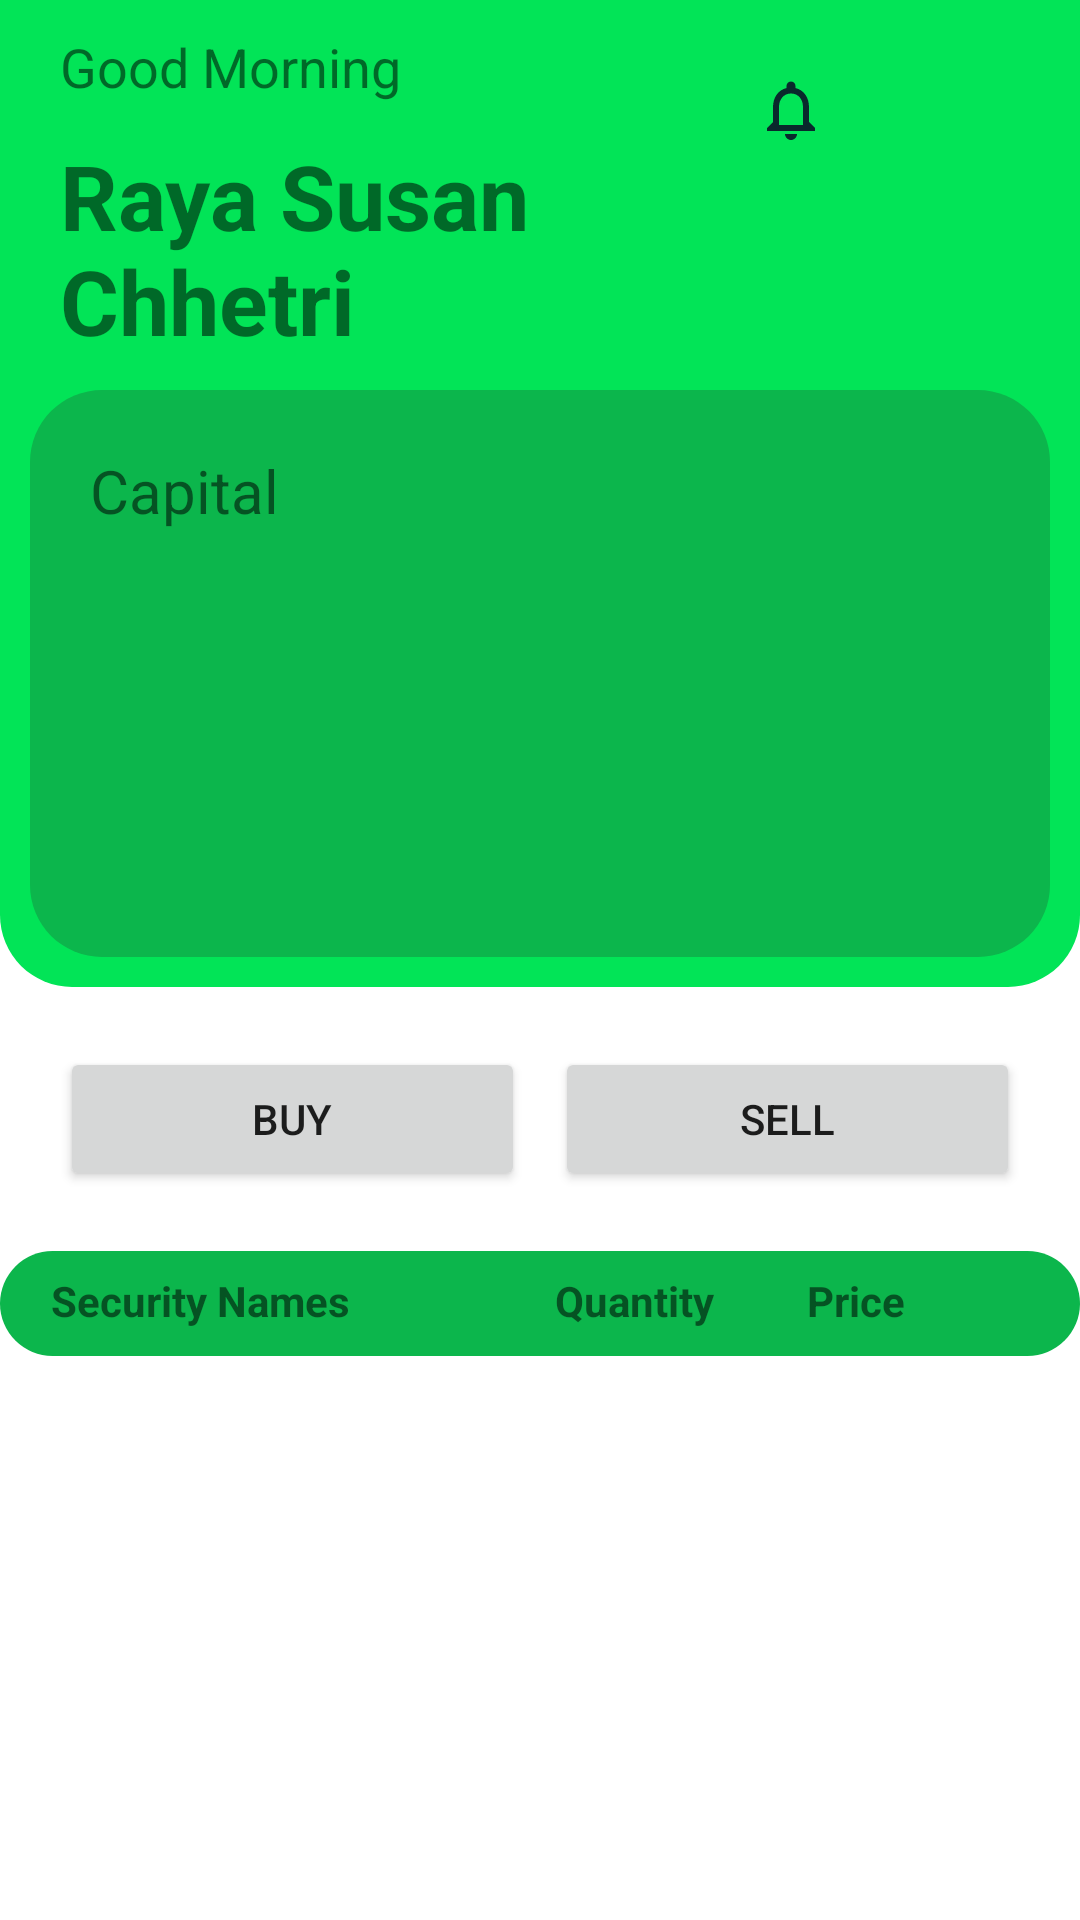

Icon bounding boxes for this 1080x1920 phone screenshot, format (x1, y1, x2, y2):
notification: (767, 81, 815, 140)
